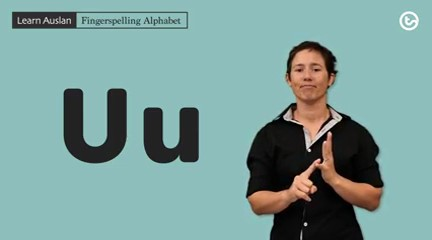U: (279, 127, 347, 206)
